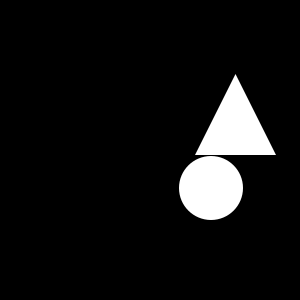rectangle: (179, 156, 243, 220)
triangle: (195, 74, 276, 155)
